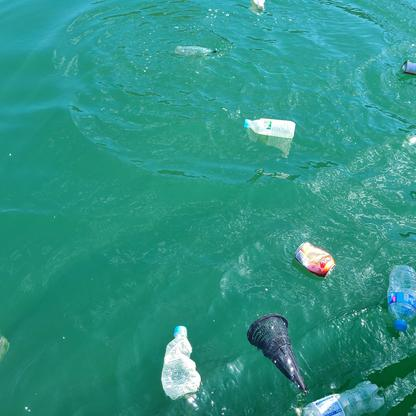can: (295, 241, 335, 278)
plastic bottle: (161, 325, 201, 400), (388, 262, 416, 332), (244, 117, 296, 139), (174, 45, 218, 54)
